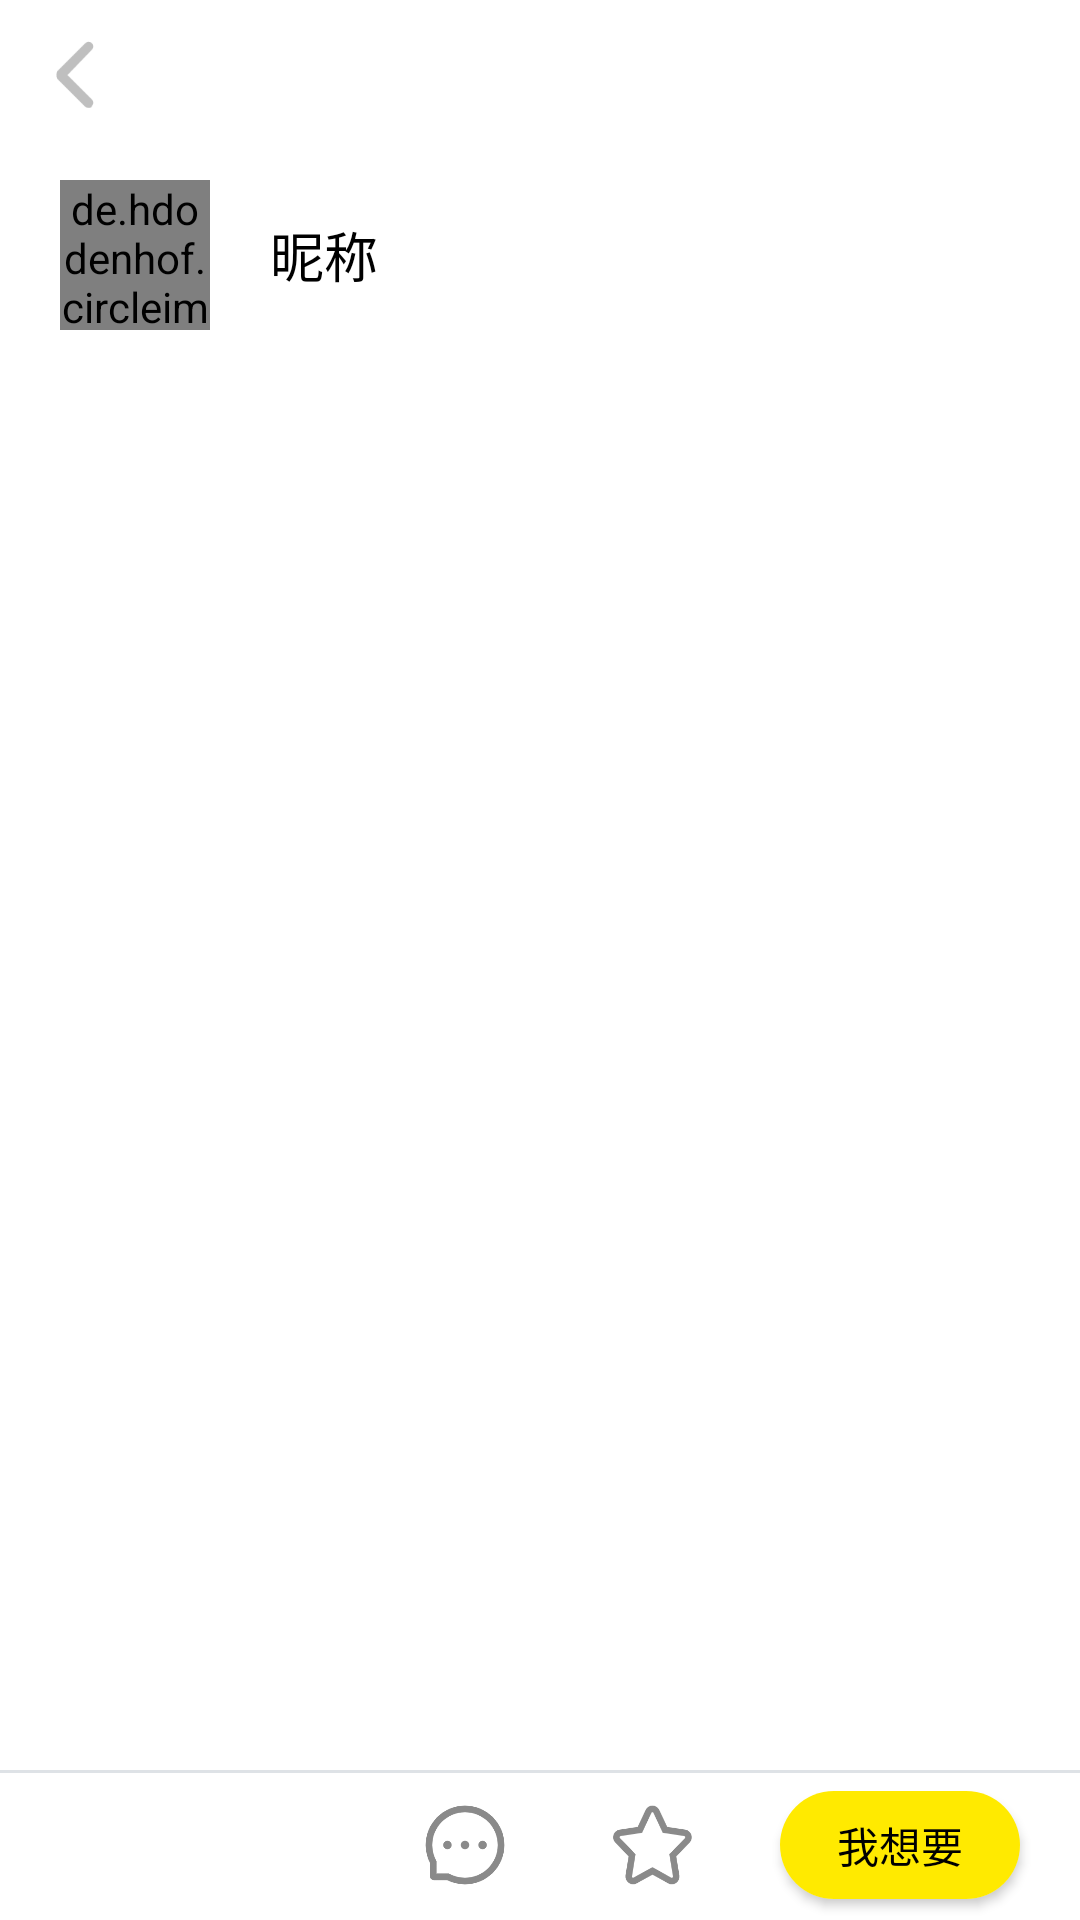

Point at icon controls on the screen. Image size 1080 x 1920, points as (x=x, y=y).
back: (x=74, y=75)
message: (x=465, y=1845)
star: (x=652, y=1844)
